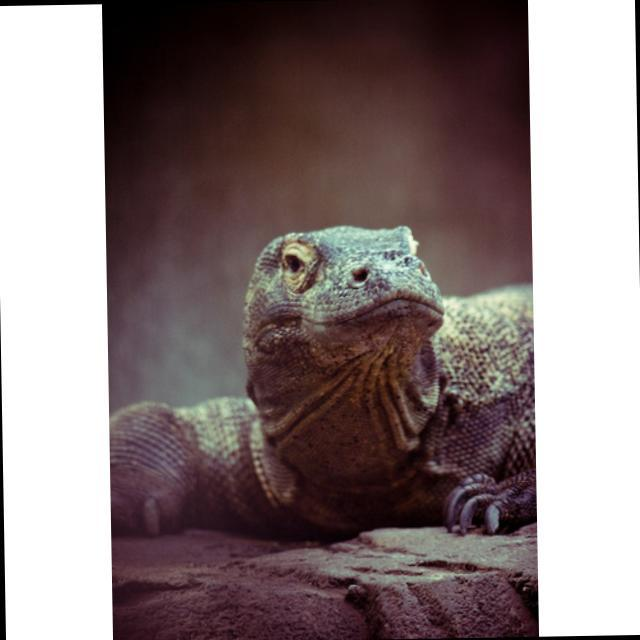KomodoDragon: (106, 221, 533, 537)
